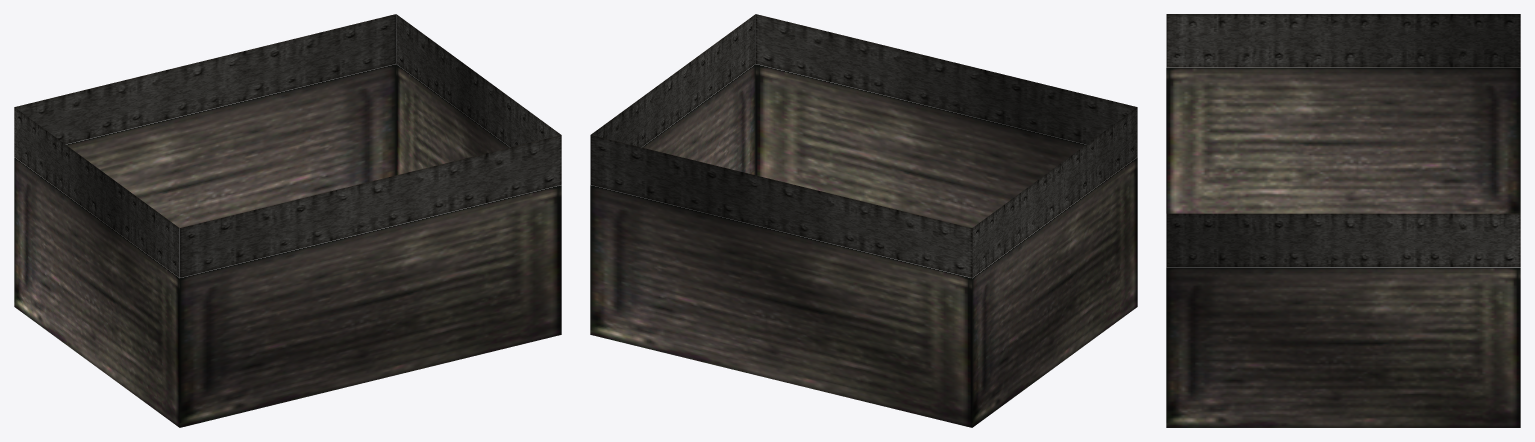
File: Chest_Body.fbx
3 renders of one model, left to right at view 1: azimuth 30°, elevation 25°; view 2: azimuth 150°, elevation 25°; view 3: azimuth 270°, elevation 25°, orthographic. The views are drawn at different scales.
Visible parts, largest first — view 1: Chest_Body; view 2: Chest_Body; view 3: Chest_Body.
Part boxes in pixels (x1=…): Chest_Body: x1=14, y1=14, x2=561, y2=427; Chest_Body: x1=590, y1=14, x2=1137, y2=427; Chest_Body: x1=1166, y1=14, x2=1520, y2=427.
Size of the model in its own units: 100 by 50 by 75.
Materials: 1 (1 with a texture image).
